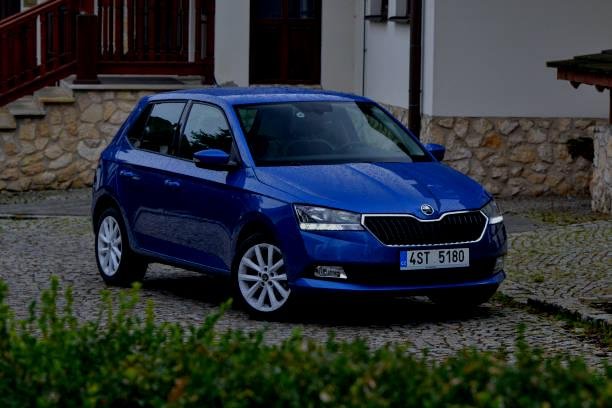skoda: (417, 200, 440, 218)
